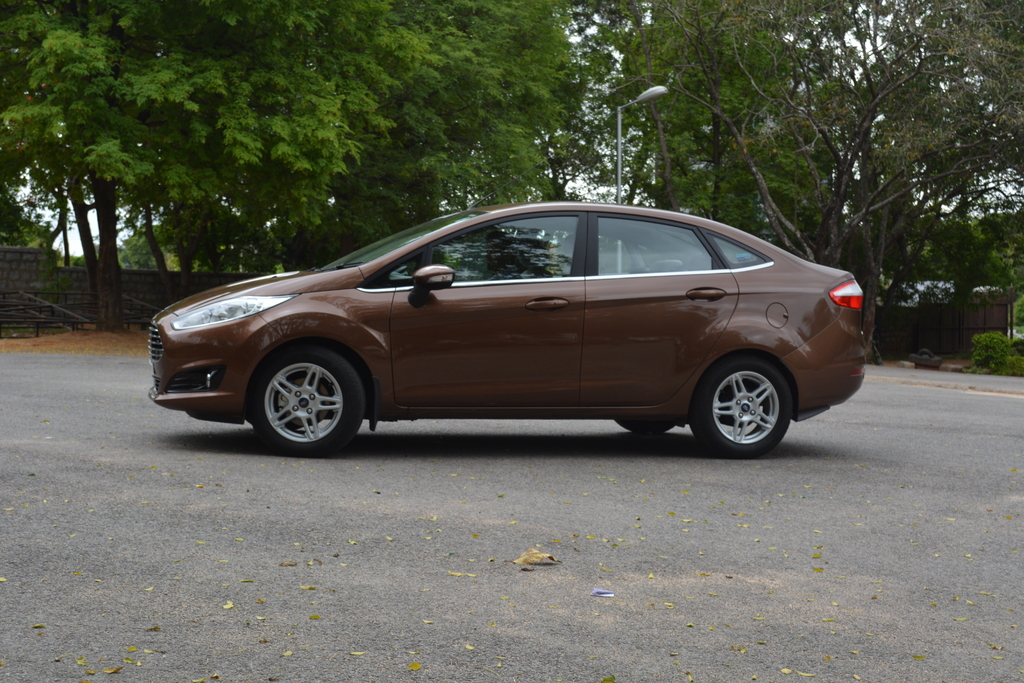Car: (147, 155, 866, 456)
